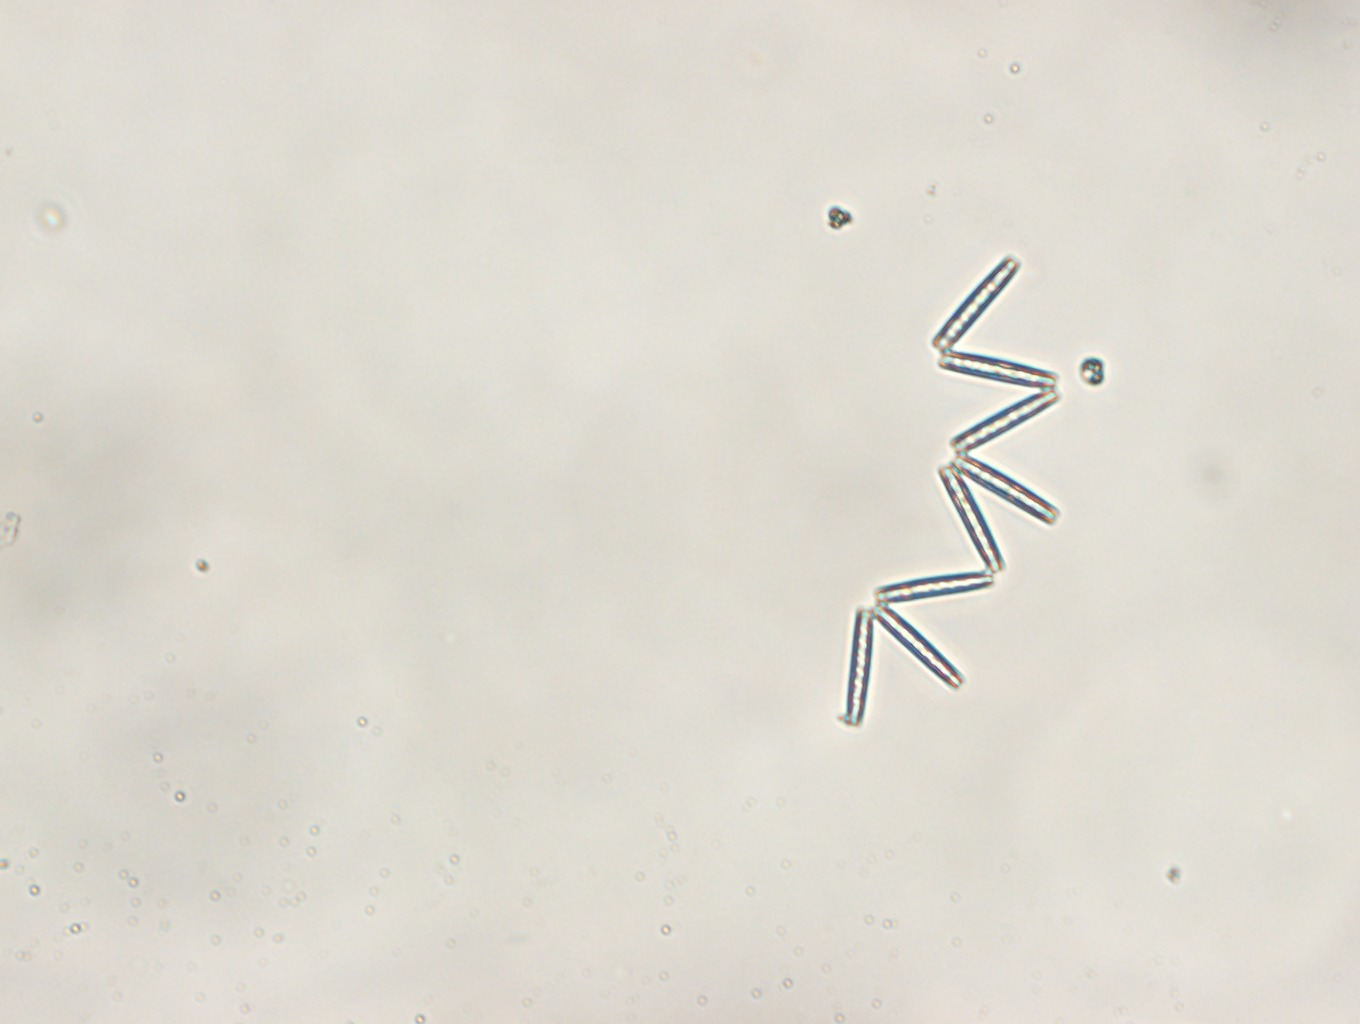thalassionema nitzschioides: (844, 255, 1061, 725)
